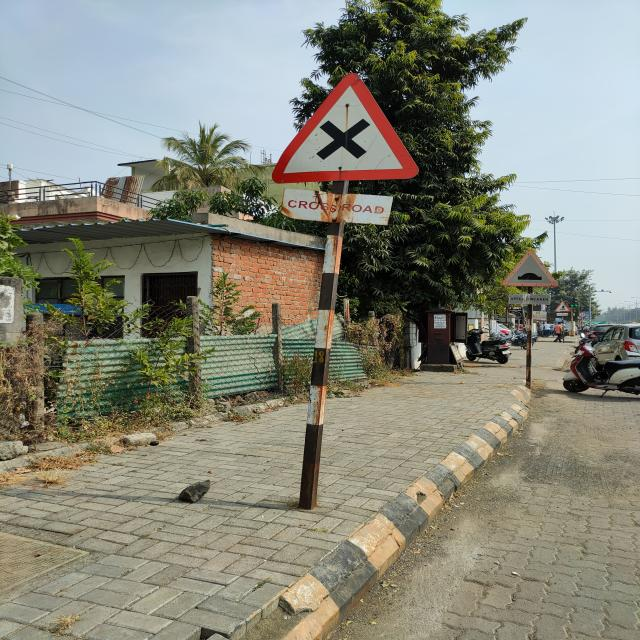cross_road: (272, 74, 419, 184)
